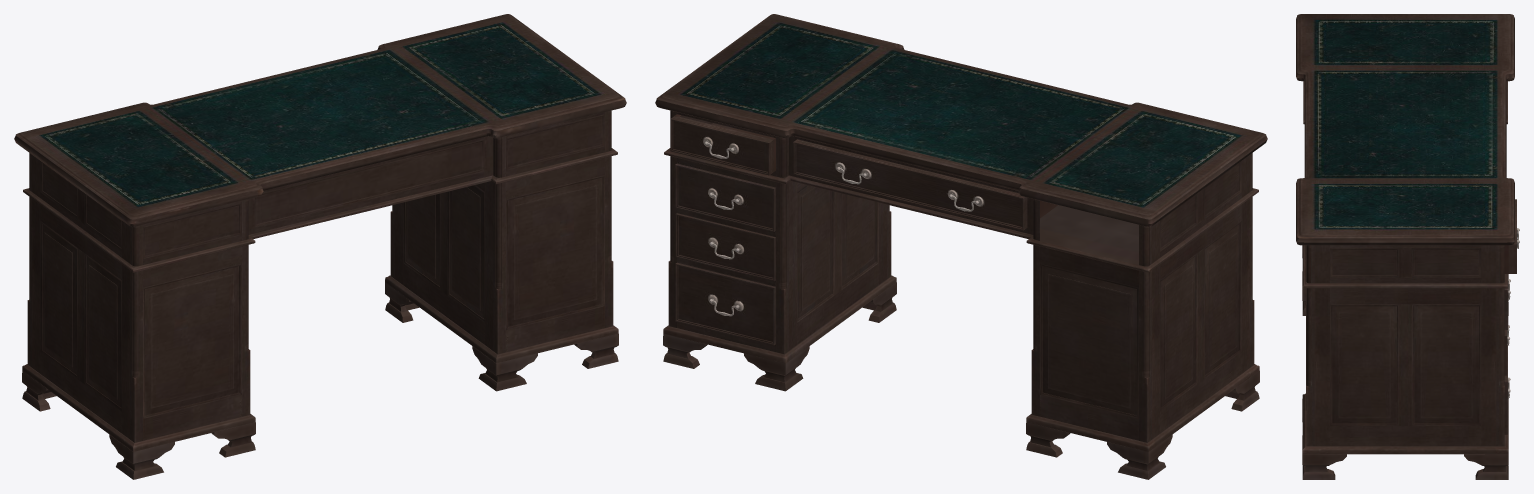
Rendered from desk-writing.glb.
3 renders of one model, left to right at view 1: azimuth 30°, elevation 25°; view 2: azimuth 150°, elevation 25°; view 3: azimuth 270°, elevation 25°, orthographic. The views are drawn at different scales.
Visible parts, largest first — view 1: desk-writing; view 2: desk-writing; view 3: desk-writing.
Boxes of the visible parts, <box> form: desk-writing: <box>14,14,626,479</box>; desk-writing: <box>655,14,1267,479</box>; desk-writing: <box>1296,14,1519,479</box>.
Size of the model in its own units: 1.61 by 0.8204 by 0.6771.
1 material, 1 textured.
